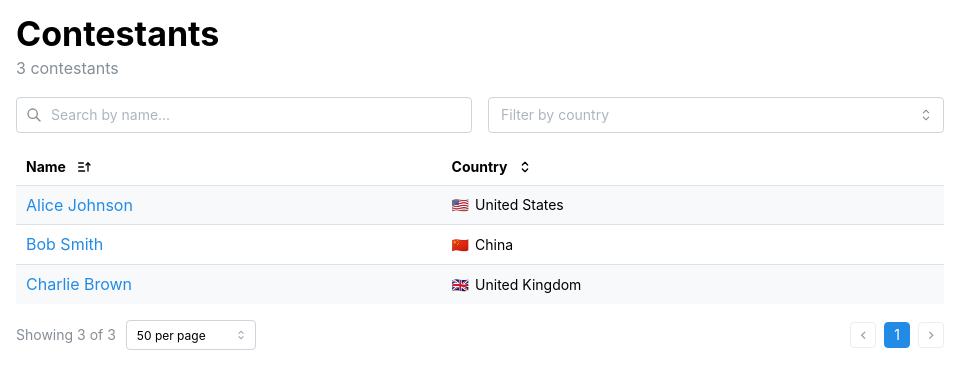
Scenario: Contestants › column sorting › allows clicking on Country header to sort
Step 1. Click the text "Country" → (493, 166), box [452,158,534,175]
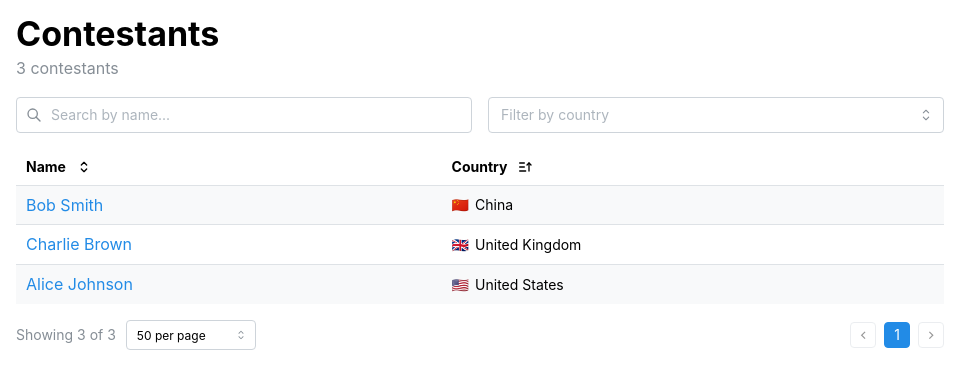
Check: the link "Alice Johnson" is shown, box [26,274,133,294]
Check: the link "Bob Smith" is shown, box [26,195,103,215]
